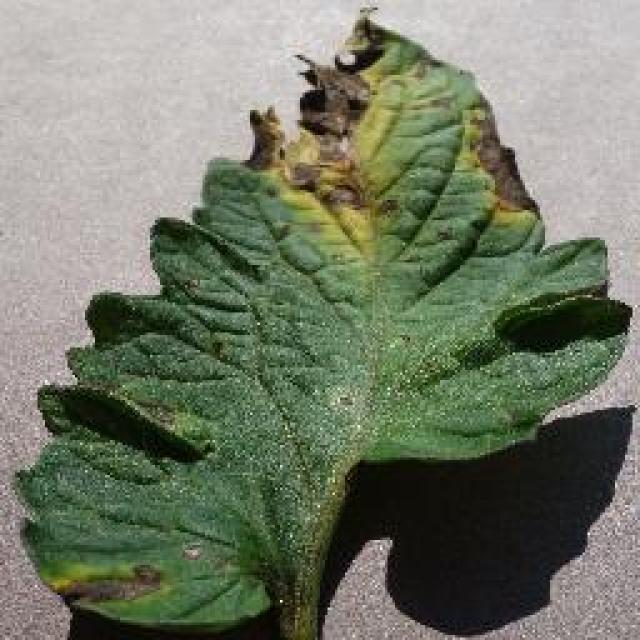Tomato___Early_blight: (12, 4, 638, 638)
